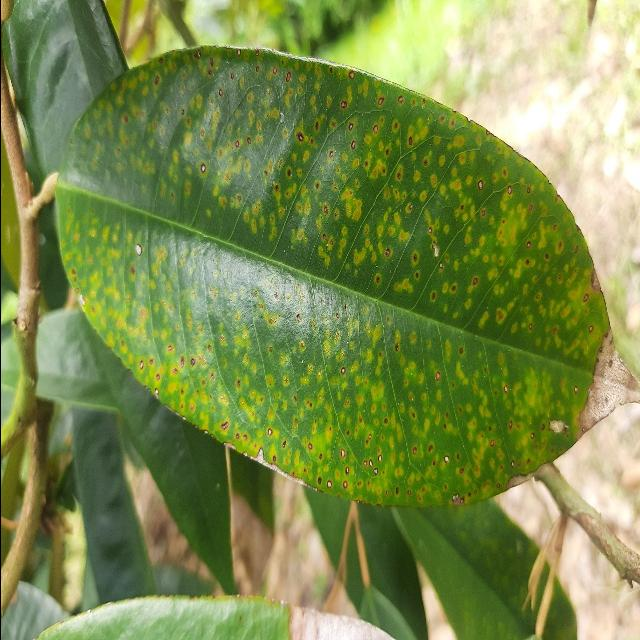Leaf Spot: (41, 35, 640, 518)
